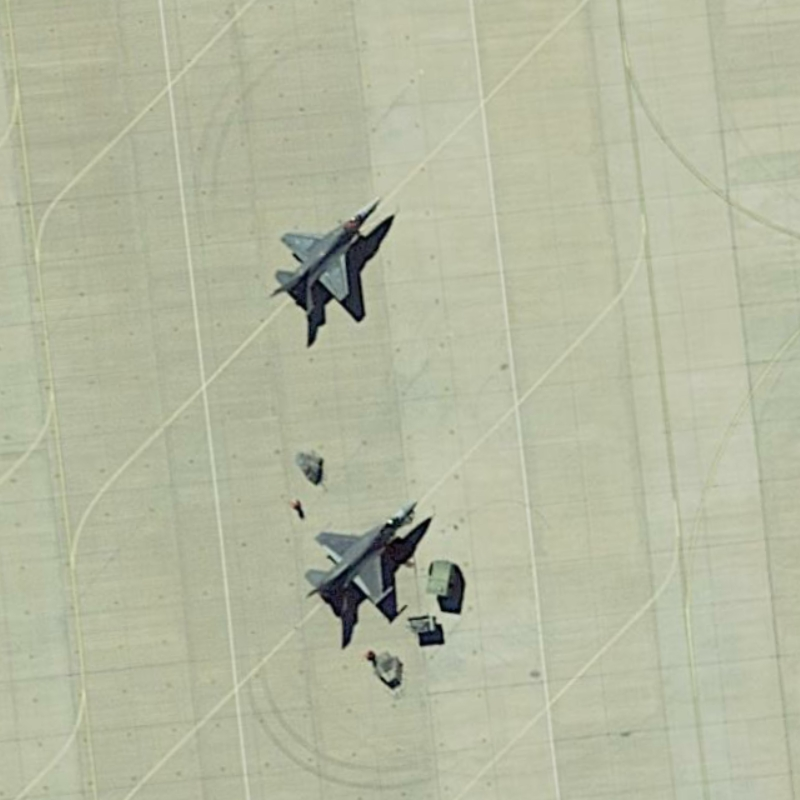A5: (268, 174, 390, 323), (299, 492, 422, 623)
